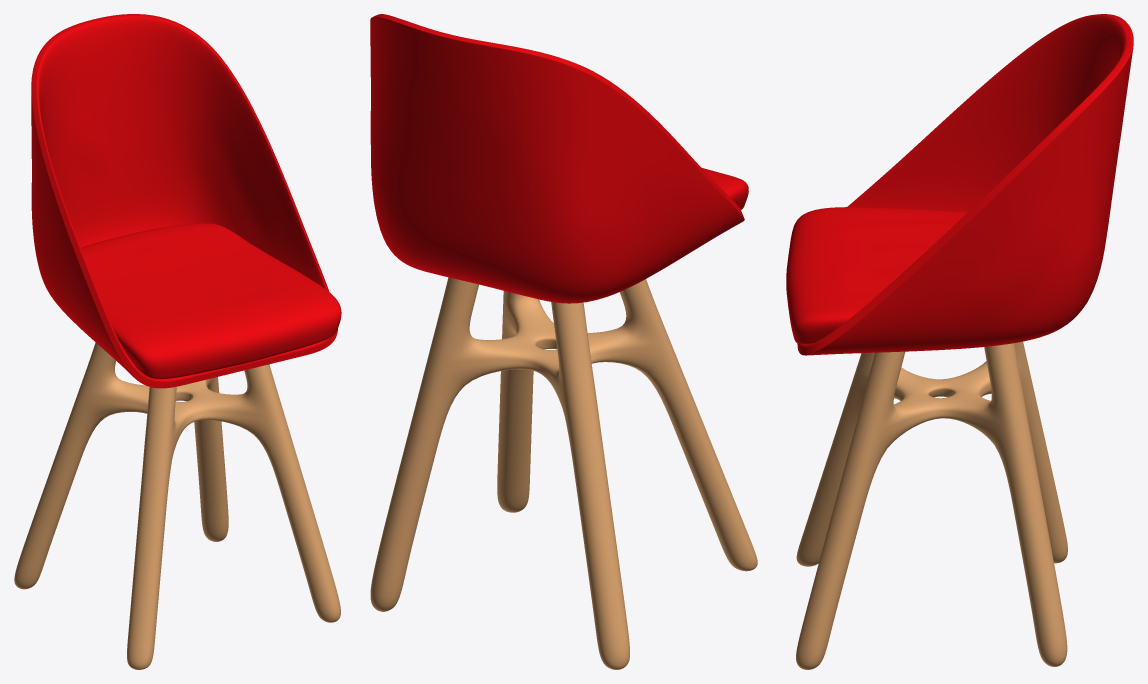
File: chair_fabric_red.gltf
3 renders of one model, left to right at view 1: azimuth 30°, elevation 25°; view 2: azimuth 150°, elevation 25°; view 3: azimuth 270°, elevation 25°, orthographic. The views are drawn at different scales.
Parts seen in each view (by area): view 1: Cube, Cube.002, Cube.003; view 2: Cube, Cube.002, Cube.003; view 3: Cube, Cube.002, Cube.003.
Boxes of the visible parts, x1,y1,x2,y2 form: Cube: (31, 14, 337, 388); Cube.002: (14, 342, 340, 669); Cube.003: (80, 223, 341, 379); Cube: (370, 14, 744, 303); Cube.002: (370, 277, 757, 669); Cube.003: (702, 168, 748, 209); Cube: (797, 14, 1133, 355); Cube.002: (796, 341, 1067, 669); Cube.003: (786, 207, 968, 344).
Size of the model in its own units: 1.69 by 3.75 by 2.04.
